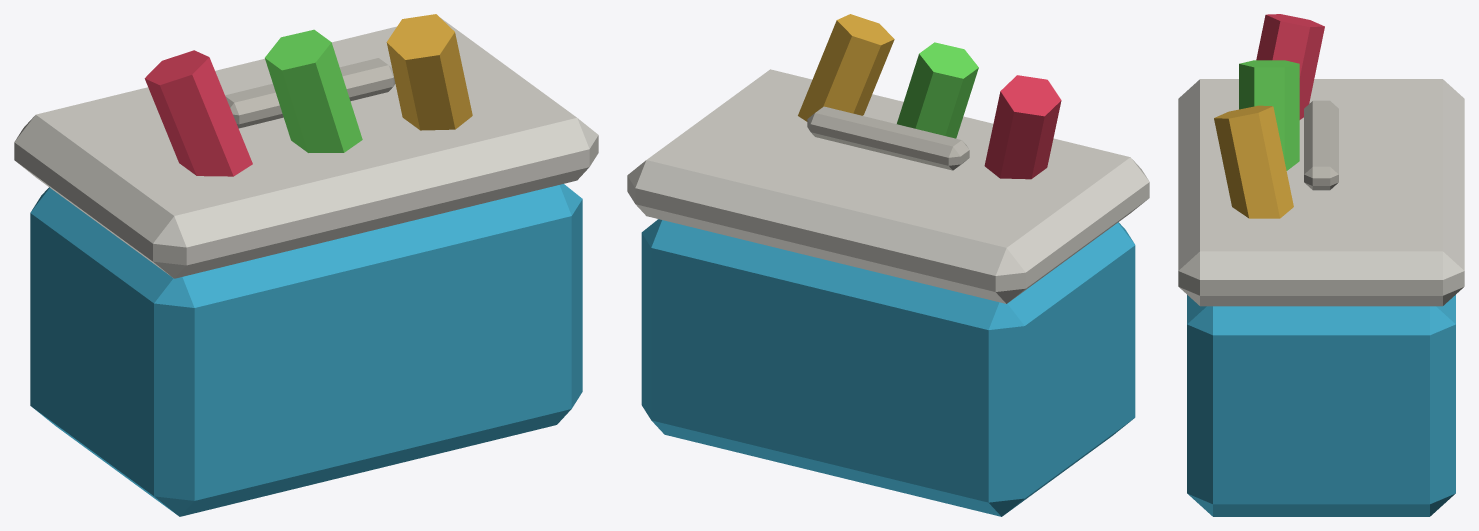
Rendered from cooler.glb.
3 renders of one model, left to right at view 1: azimuth 30°, elevation 25°; view 2: azimuth 150°, elevation 25°; view 3: azimuth 270°, elevation 25°, orthographic. The views are drawn at different scales.
Visible parts, largest first — view 1: body; view 2: body; view 3: body.
Boxes of the visible parts, box(x1,y1,x2,y2) form: body: box(14, 14, 598, 516); body: box(627, 14, 1149, 516); body: box(1178, 14, 1464, 516).
Size of the model in its own units: 1.04 by 0.9254 by 0.66.
